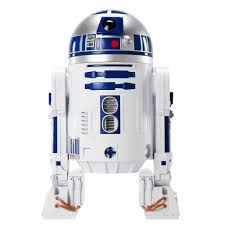r2d2: (40, 9, 181, 219)
